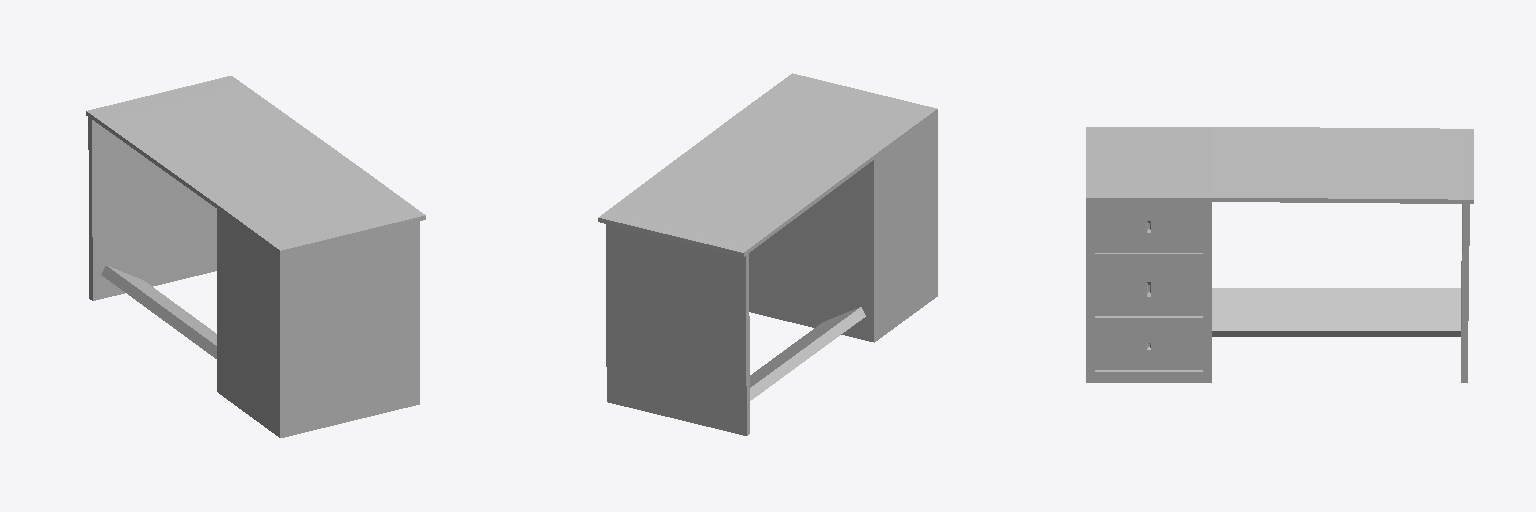
Rendered from Table.obj.
3 views of the same model, side by side, from view 1: azimuth 30°, elevation 25°; view 2: azimuth 150°, elevation 25°; view 3: azimuth 270°, elevation 25° (orthographic).
Parts seen in each view (by area): view 1: Table; view 2: Table; view 3: Table.
Boxes of the visible parts, <box> form: Table: <box>86,76,425,437</box>; Table: <box>598,73,937,435</box>; Table: <box>1086,127,1473,382</box>.
Size of the model in its own units: 0.83 by 1.03 by 1.92.